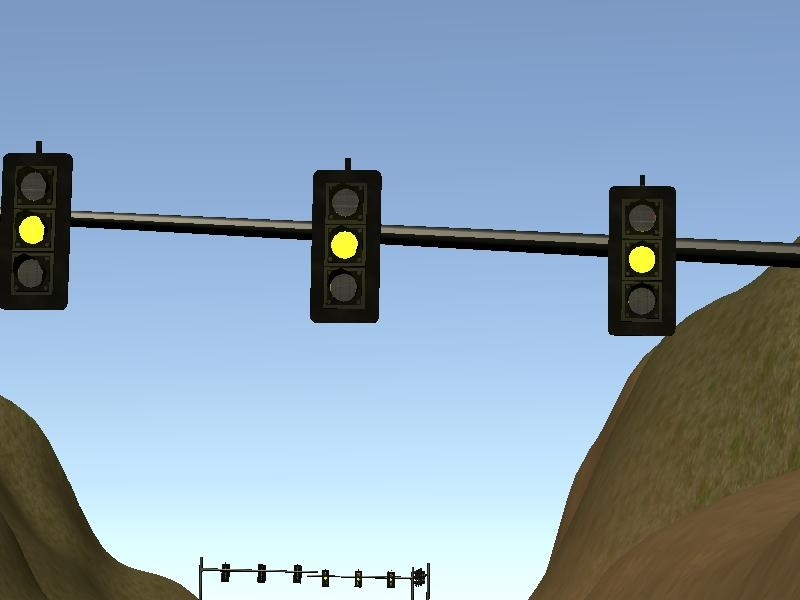yellow: (303, 156, 389, 333), (600, 174, 682, 345), (1, 143, 75, 315)
